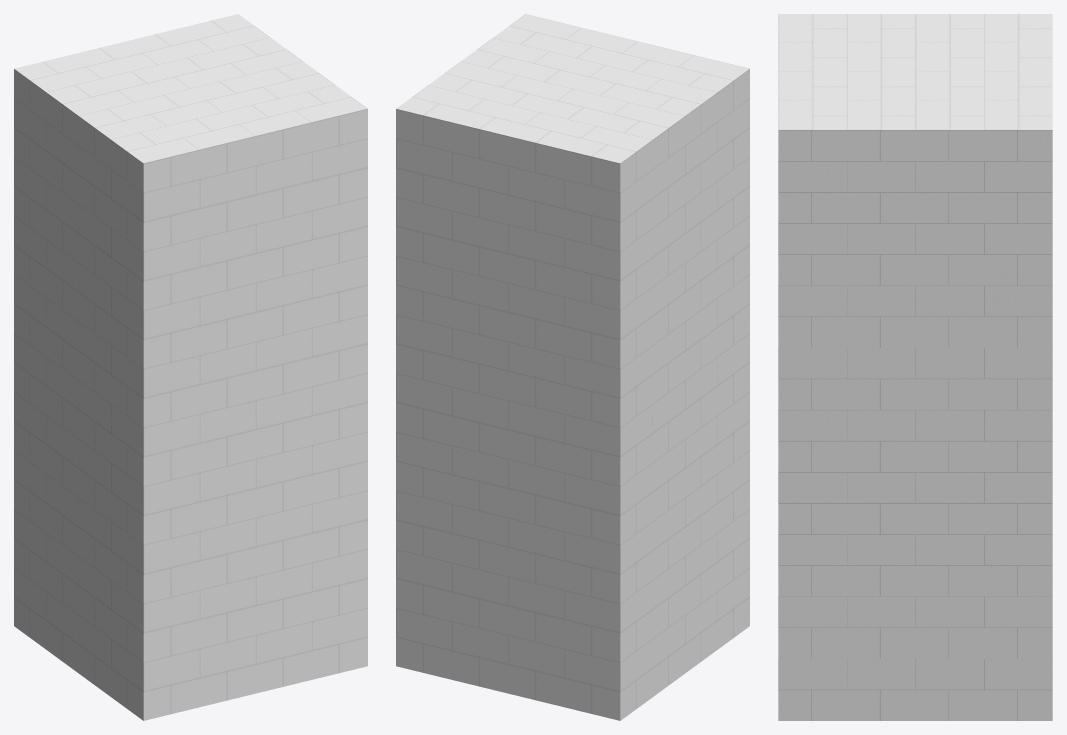
The model's file is BackStairsStairCorner.obj.
The picture shows the model from 3 angles, left to right: view 1: azimuth 30°, elevation 25°; view 2: azimuth 150°, elevation 25°; view 3: azimuth 270°, elevation 25°; orthographic projection. The views are drawn at different scales.
Visible parts, largest first — view 1: BackStairsStairCorner; view 2: BackStairsStairCorner; view 3: BackStairsStairCorner.
Boxes of the visible parts, <box> form: BackStairsStairCorner: <box>14,14,367,720</box>; BackStairsStairCorner: <box>396,14,749,720</box>; BackStairsStairCorner: <box>778,14,1052,720</box>.
Bounding box in the file's own units: 4 × 9.5 × 4.
